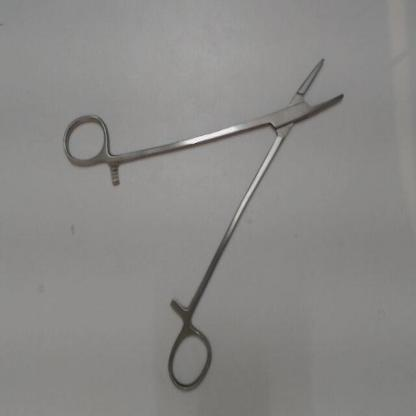8 Mayo Needle Holder: (56, 44, 364, 398)
